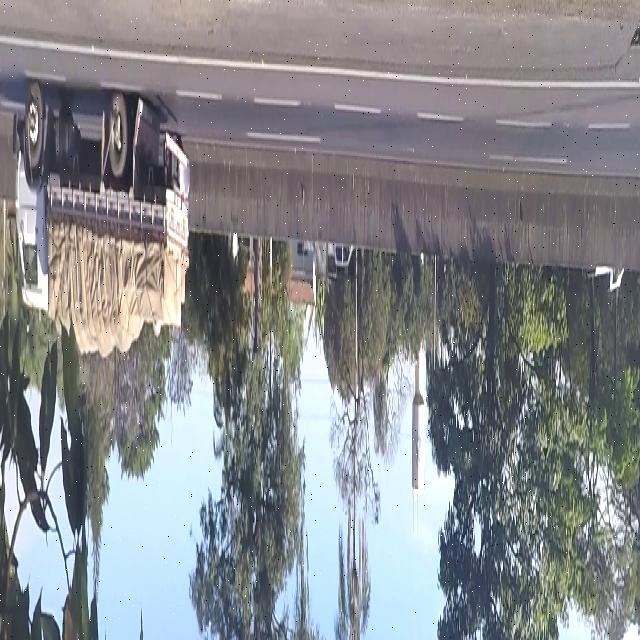-axle: (104, 84, 129, 178), (22, 73, 46, 168)
